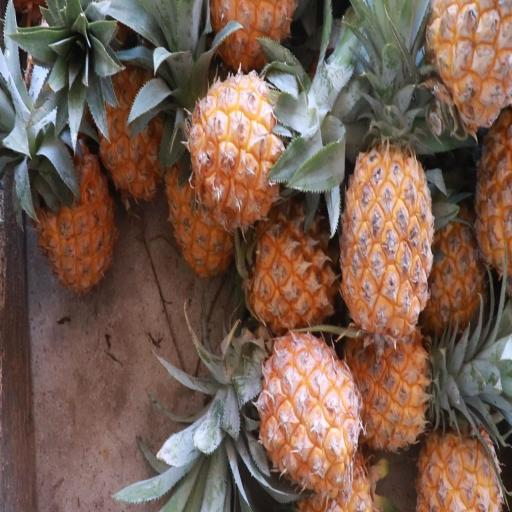Pineapple - v8 v1: (339, 120, 435, 351), (254, 331, 363, 504), (186, 68, 292, 238), (30, 109, 120, 295), (242, 189, 341, 333), (94, 50, 173, 218), (338, 316, 431, 458), (420, 2, 512, 142), (417, 372, 508, 512)
